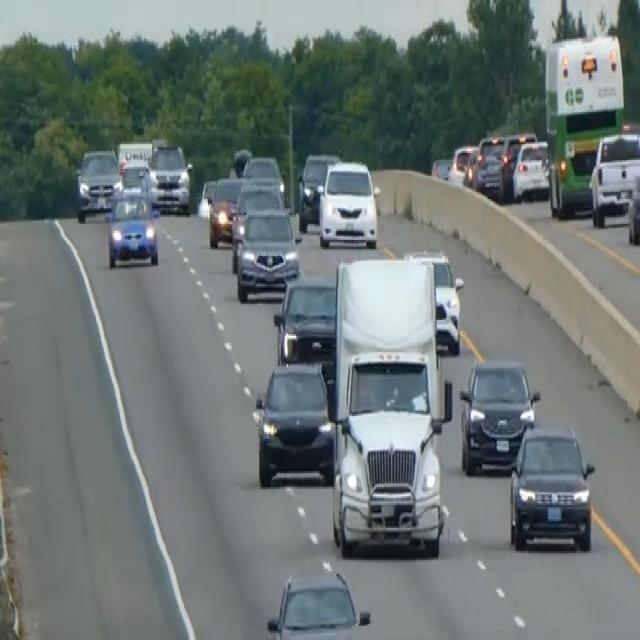bus: (542, 32, 625, 219)
car: (508, 421, 595, 551), (253, 357, 334, 487), (458, 356, 539, 474), (265, 569, 371, 638), (404, 247, 464, 354), (234, 204, 300, 300), (273, 274, 337, 362), (318, 158, 379, 249), (230, 178, 286, 268), (588, 128, 639, 226), (104, 185, 159, 268), (296, 151, 340, 231), (75, 146, 120, 222), (148, 140, 191, 213), (207, 174, 245, 247), (511, 138, 550, 202), (500, 130, 536, 197), (472, 133, 506, 199), (241, 151, 285, 199), (118, 155, 155, 208), (447, 142, 476, 185), (626, 171, 639, 245), (196, 176, 217, 217), (231, 146, 252, 176), (430, 154, 452, 180)
lorry: (329, 254, 452, 556)
